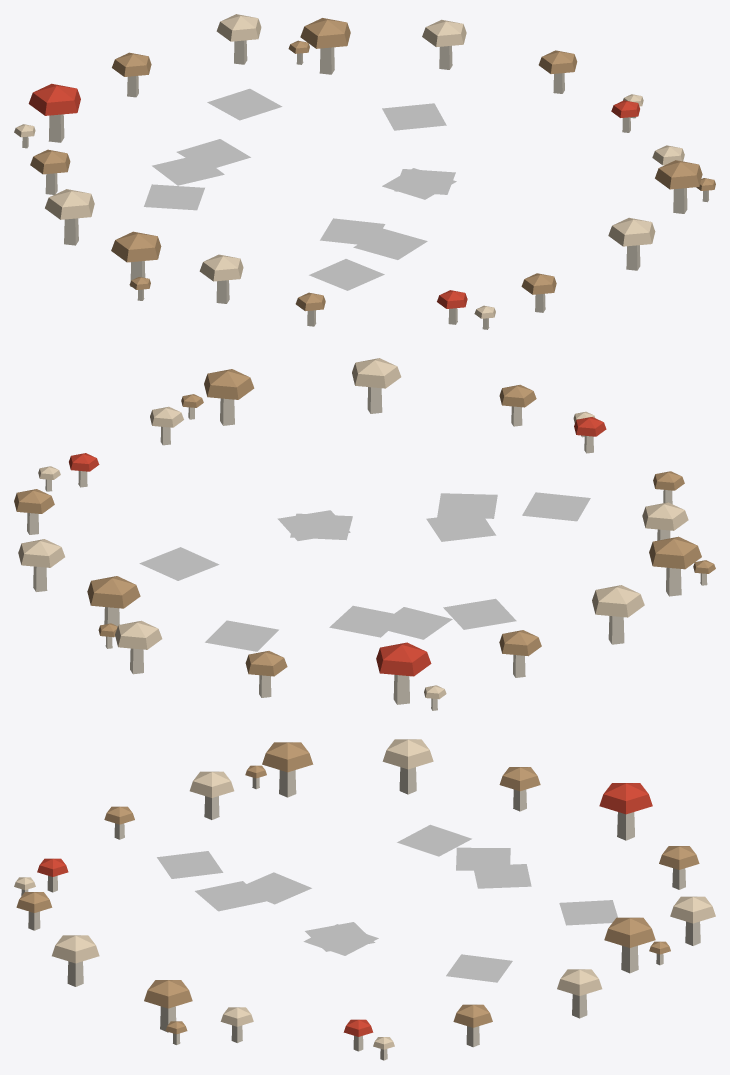
File: mushroom_ring.gltf
3 views of the same model, one above another, from view 1: azimuth 30°, elevation 25°; view 2: azimuth 150°, elevation 25°; view 3: azimuth 270°, elevation 25° (orthographic). The views are drawn at different scales.
Visible parts, largest first — view 1: mushroom_ring_Clover_Leaf, mushroom_ring_Mushroom_Tan, mushroom_ring_Mushroom_Cream, mushroom_ring_Mushroom_Stem, mushroom_ring_Mushroom_Red; view 2: mushroom_ring_Clover_Leaf, mushroom_ring_Mushroom_Tan, mushroom_ring_Mushroom_Cream, mushroom_ring_Mushroom_Stem, mushroom_ring_Mushroom_Red; view 3: mushroom_ring_Clover_Leaf, mushroom_ring_Mushroom_Tan, mushroom_ring_Mushroom_Cream, mushroom_ring_Mushroom_Stem, mushroom_ring_Mushroom_Red.
Boxes of the visible parts, x1,y1,x2,y2 form: mushroom_ring_Clover_Leaf: [144, 88, 456, 290]; mushroom_ring_Mushroom_Tan: [30, 18, 715, 311]; mushroom_ring_Mushroom_Cream: [14, 14, 684, 318]; mushroom_ring_Mushroom_Stem: [22, 40, 708, 329]; mushroom_ring_Mushroom_Red: [28, 83, 639, 308]; mushroom_ring_Clover_Leaf: [139, 492, 590, 651]; mushroom_ring_Mushroom_Tan: [14, 369, 715, 676]; mushroom_ring_Mushroom_Cream: [18, 358, 688, 699]; mushroom_ring_Mushroom_Stem: [27, 387, 707, 710]; mushroom_ring_Mushroom_Red: [69, 417, 606, 676]; mushroom_ring_Clover_Leaf: [157, 824, 617, 982]; mushroom_ring_Mushroom_Tan: [16, 742, 699, 1034]; mushroom_ring_Mushroom_Cream: [14, 739, 715, 1049]; mushroom_ring_Mushroom_Stem: [21, 767, 700, 1060]; mushroom_ring_Mushroom_Red: [37, 783, 652, 1036].
Bounding box in the file's own units: 3.46 × 0.3066 × 3.64.
